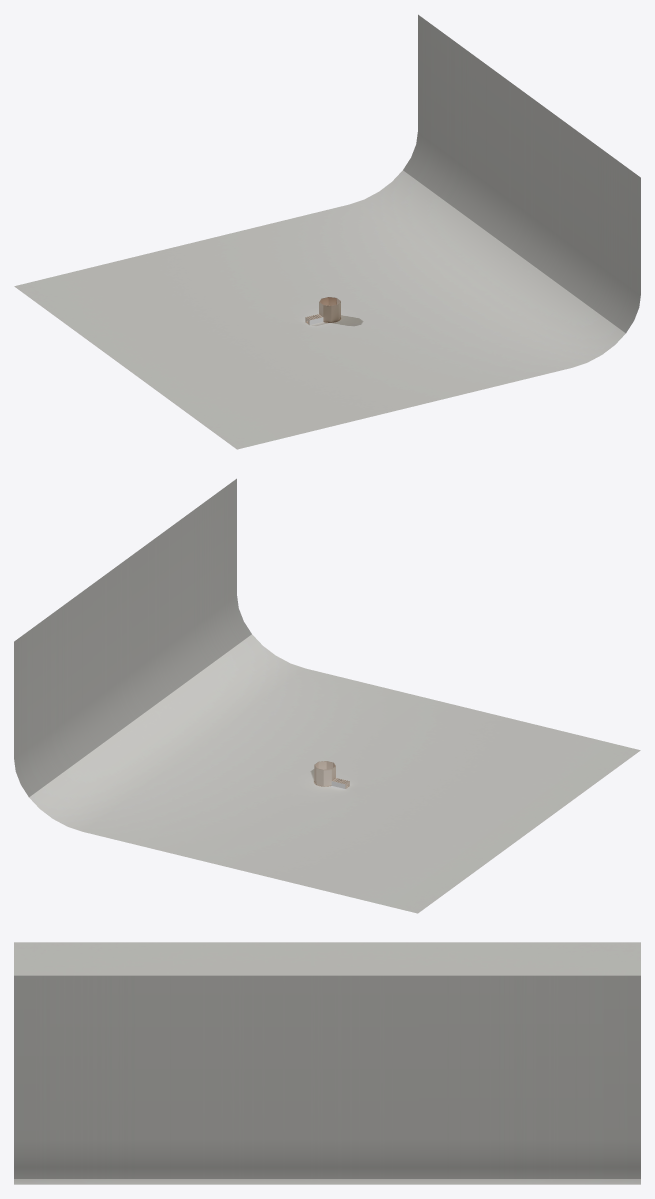
File: OPERA_SINGOLA_V11.glb
3 views of the same model, one above another, from view 1: azimuth 30°, elevation 25°; view 2: azimuth 150°, elevation 25°; view 3: azimuth 270°, elevation 25° (orthographic). The views are drawn at different scales.
Visible parts, largest first — view 1: Plane_Baked; view 2: Plane_Baked; view 3: Plane_Baked.
Part boxes in pixels (x1=…): Plane_Baked: x1=14, y1=14, x2=640, y2=449; Plane_Baked: x1=14, y1=478, x2=640, y2=913; Plane_Baked: x1=14, y1=942, x2=640, y2=1184.
Bounding box in the file's own units: 401 × 165 × 384.
10 materials, 10 textured.
